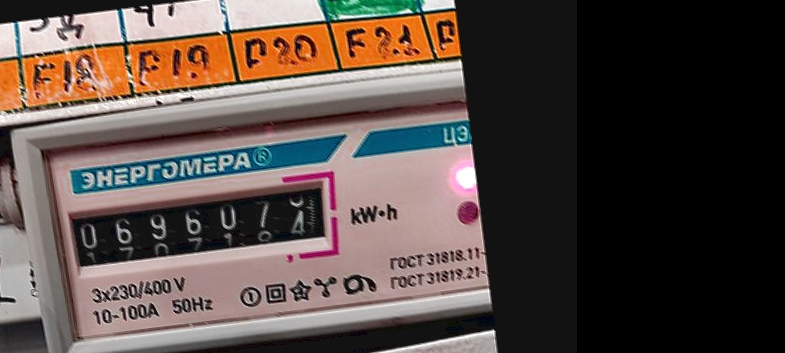0: (74, 217, 99, 250), (215, 199, 237, 230)
4: (283, 206, 306, 237)
6: (179, 204, 203, 237), (110, 213, 132, 244)
7: (250, 194, 271, 227)
9: (145, 209, 168, 240)
screen: (53, 162, 345, 288)
